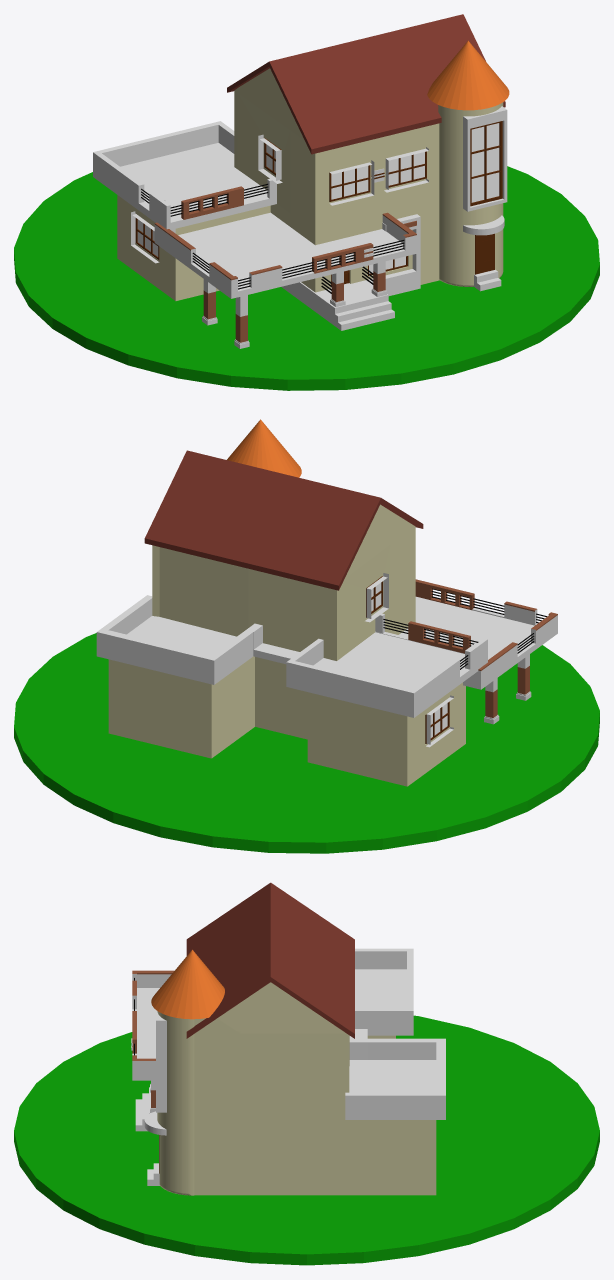
File: HOUSE3.glb
3 views of the same model, one above another, from view 1: azimuth 30°, elevation 25°; view 2: azimuth 150°, elevation 25°; view 3: azimuth 270°, elevation 25° (orthographic).
Parts seen in each view (by area): view 1: Cylinder.018, Plane, Plane.003, Plane.001, Plane.002, Cylinder, Cube.003, Cone, Plane.018, Plane.019, Plane.005, Plane.006 (+6 smaller); view 2: Cylinder.018, Plane, Plane.003, Plane.001, Plane.002, Cone, Plane.009; view 3: Cylinder.018, Plane, Plane.003, Plane.001, Cylinder, Cone, Plane.002, Plane.019.
Part boxes in pixels (bbox=[...]): Cylinder.018: bbox=[14, 166, 599, 390]; Plane: bbox=[117, 68, 439, 300]; Plane.003: bbox=[227, 14, 505, 154]; Plane.001: bbox=[93, 121, 276, 229]; Plane.002: bbox=[154, 212, 416, 298]; Cylinder: bbox=[438, 102, 503, 286]; Cube.003: bbox=[281, 214, 420, 330]; Cone: bbox=[427, 40, 509, 110]; Plane.018: bbox=[470, 121, 502, 206]; Plane.019: bbox=[463, 106, 507, 211]; Plane.005: bbox=[329, 165, 370, 201]; Plane.006: bbox=[388, 151, 426, 187]; Cylinder.018: bbox=[14, 633, 599, 853]; Plane: bbox=[108, 504, 465, 786]; Plane.003: bbox=[144, 450, 423, 590]; Plane.001: bbox=[96, 595, 487, 717]; Plane.002: bbox=[399, 579, 557, 689]; Cone: bbox=[227, 419, 301, 477]; Plane.009: bbox=[425, 701, 449, 743]; Cylinder.018: bbox=[14, 1015, 599, 1265]; Plane: bbox=[194, 982, 436, 1195]; Plane.003: bbox=[186, 882, 354, 1038]; Plane.001: bbox=[345, 948, 445, 1119]; Cylinder: bbox=[157, 1011, 194, 1195]; Cone: bbox=[151, 949, 224, 1019]; Plane.002: bbox=[132, 970, 174, 1080]; Plane.019: bbox=[156, 1010, 166, 1112].
Size of the model in its own units: 32.19 by 14.71 by 32.19.
